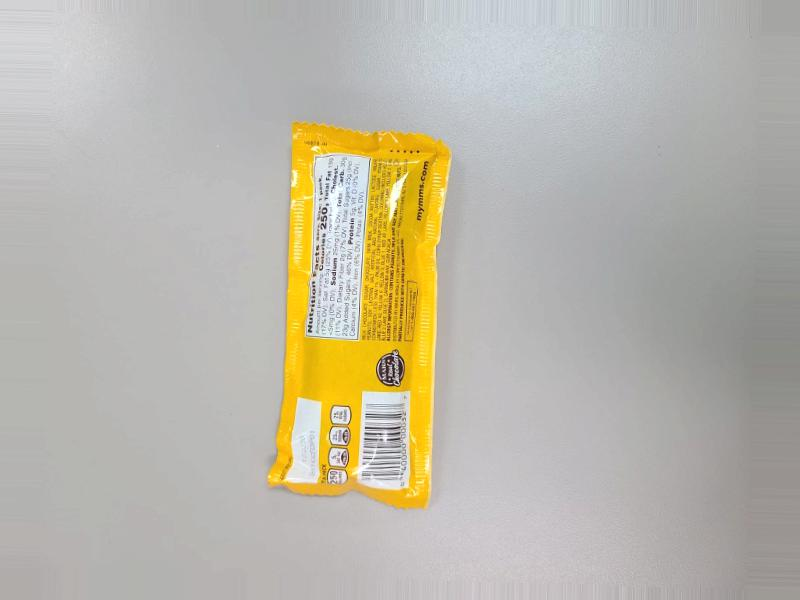m&m: (268, 107, 419, 469)
